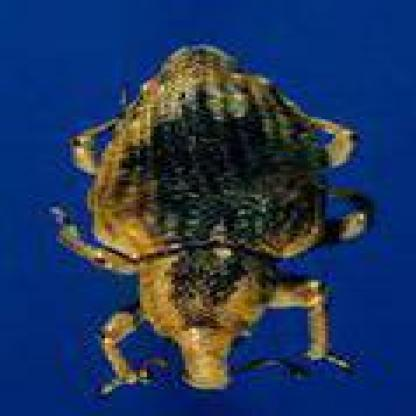rice-bug: (62, 42, 374, 394)
